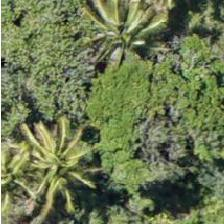coconut_tree: (5, 123, 95, 213), (76, 0, 166, 80), (0, 131, 54, 221)
